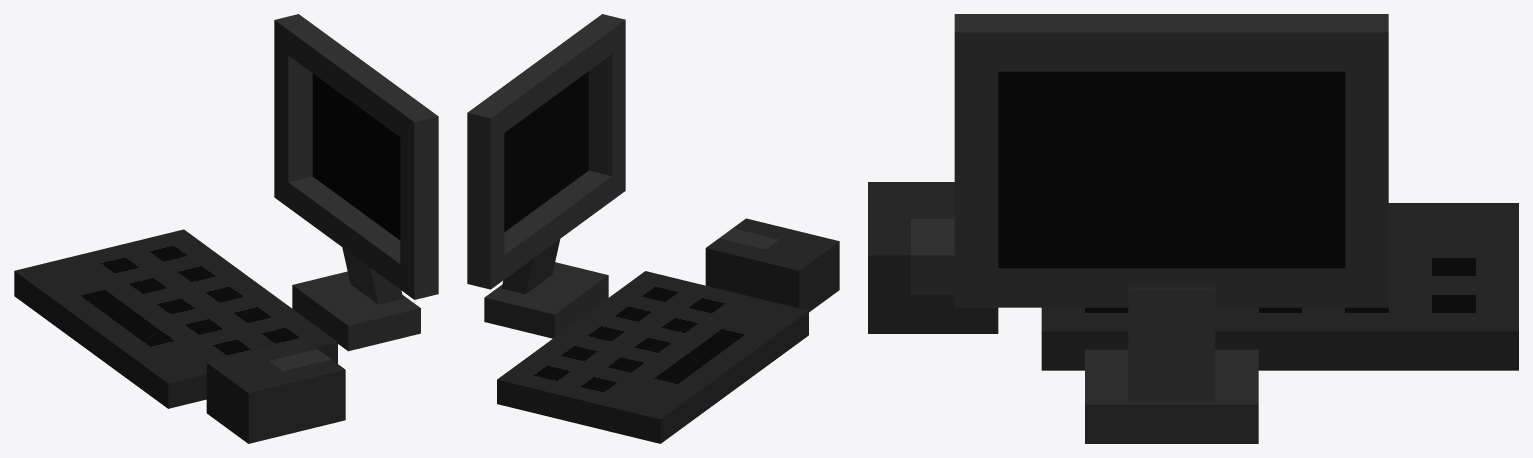
Rendered from PC - Converted.fbx.
The picture shows the model from 3 angles, left to right: view 1: azimuth 30°, elevation 25°; view 2: azimuth 150°, elevation 25°; view 3: azimuth 270°, elevation 25°; orthographic projection. The views are drawn at different scales.
Parts seen in each view (by area): view 1: cube_7, cube_8, cube_6, cube_2, cube_3, cube_1, cube_5, cube_4, cube; view 2: cube_7, cube_8, cube_6, cube_2, cube_3, cube_1, cube_4, cube_5, cube; view 3: cube_6, cube_7, cube_2, cube_3, cube_8, cube_1, cube_5, cube_4, cube.
Boxes of the visible parts, box(x1,y1,x2,y2) form: cube_7: box(14, 229, 337, 408); cube_8: box(206, 339, 345, 443); cube_6: box(312, 73, 400, 240); cube_2: box(274, 14, 438, 146); cube_3: box(274, 172, 438, 299); cube_1: box(292, 271, 420, 351); cube_5: box(400, 109, 438, 299); cube_4: box(274, 14, 312, 207); cube: box(342, 247, 403, 304); cube_7: box(497, 271, 808, 443); cube_8: box(705, 218, 839, 312); cube_6: box(504, 71, 588, 231); cube_2: box(467, 14, 625, 142); cube_3: box(467, 166, 625, 289); cube_1: box(484, 262, 608, 338); cube_4: box(467, 108, 504, 289); cube_5: box(588, 14, 625, 200); cube: box(501, 239, 560, 294); cube_6: box(998, 71, 1345, 268); cube_7: box(1041, 203, 1518, 370); cube_2: box(954, 14, 1388, 71); cube_3: box(954, 268, 1388, 307); cube_8: box(868, 182, 998, 333); cube_1: box(1085, 349, 1258, 443); cube_5: box(954, 14, 998, 307); cube_4: box(1345, 14, 1388, 307); cube: box(1128, 287, 1215, 401).
Bounding box in the file's own units: 68.75 × 62.5 × 93.75.
1 material, 1 textured.
